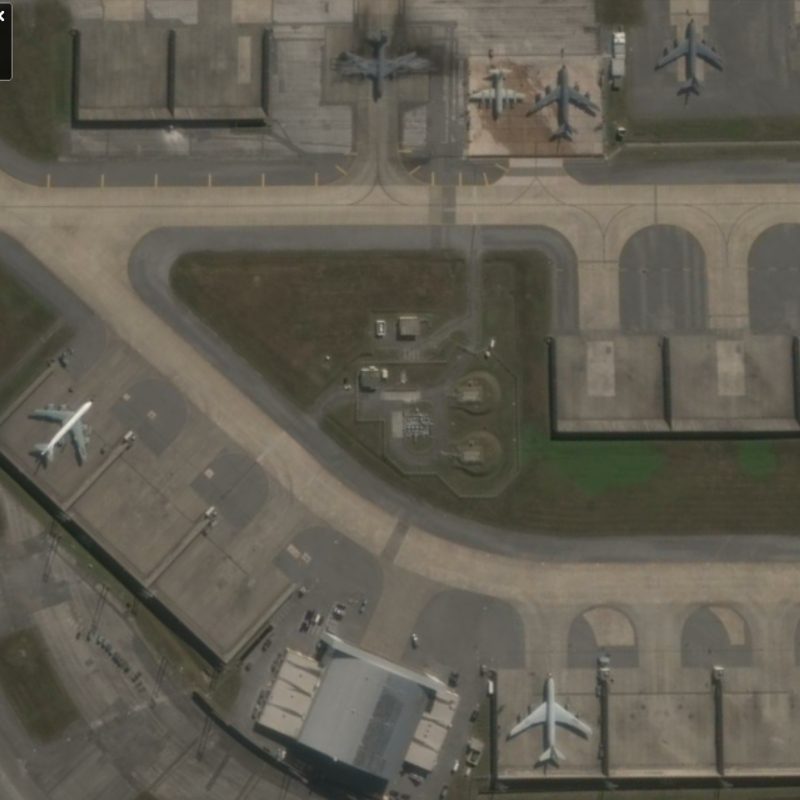A11: (501, 666, 603, 773), (17, 393, 100, 469)
A14: (647, 13, 732, 102), (524, 61, 607, 146), (337, 28, 420, 109)
A9: (466, 63, 528, 125)
